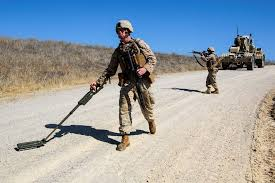gun: (188, 48, 209, 59)
